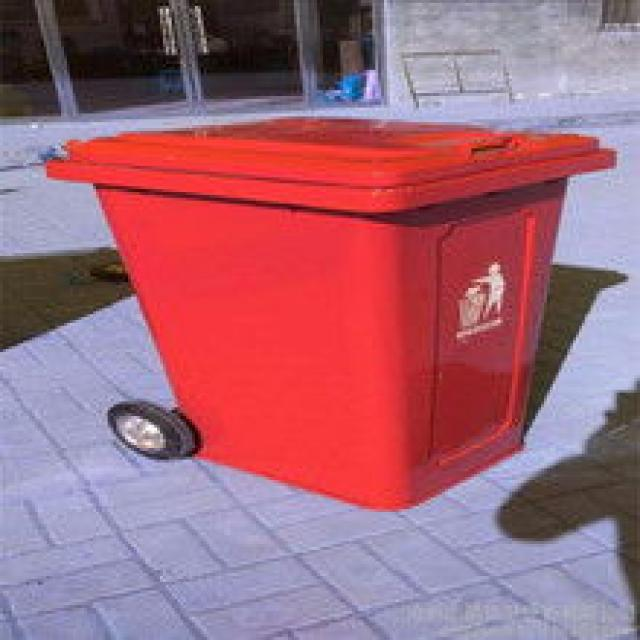garbage_bin: (41, 114, 614, 509)
